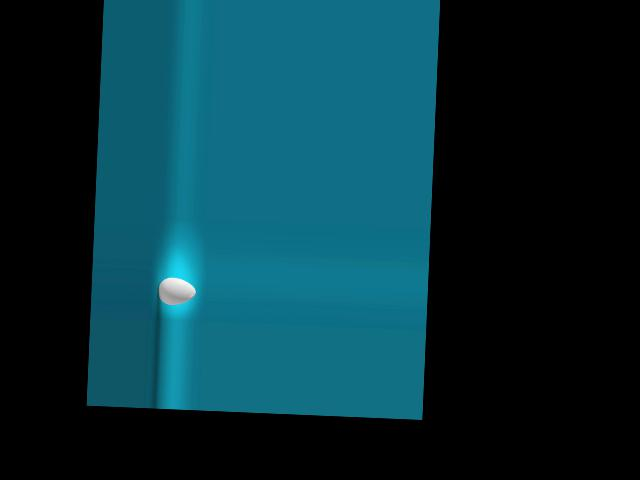egg: (157, 277, 195, 306)
